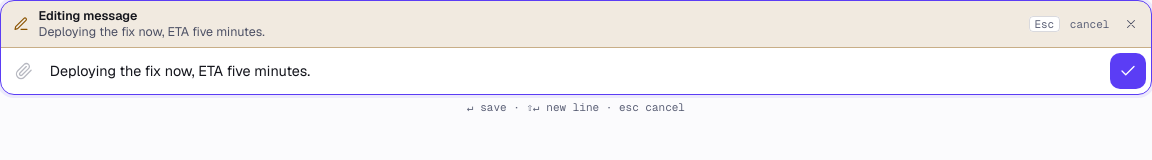
Scenario: MessageForm — edit › cannot save an edit that empties the message
Clear the text box named "message". click: (576, 71)
box: [46,53,1106,89]
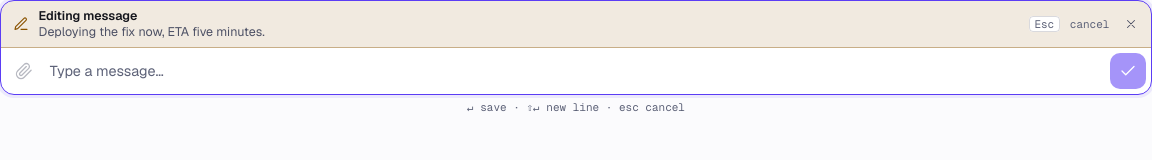
Expected: the button named "Save edit" is disabled, [1110,53,1146,89]
